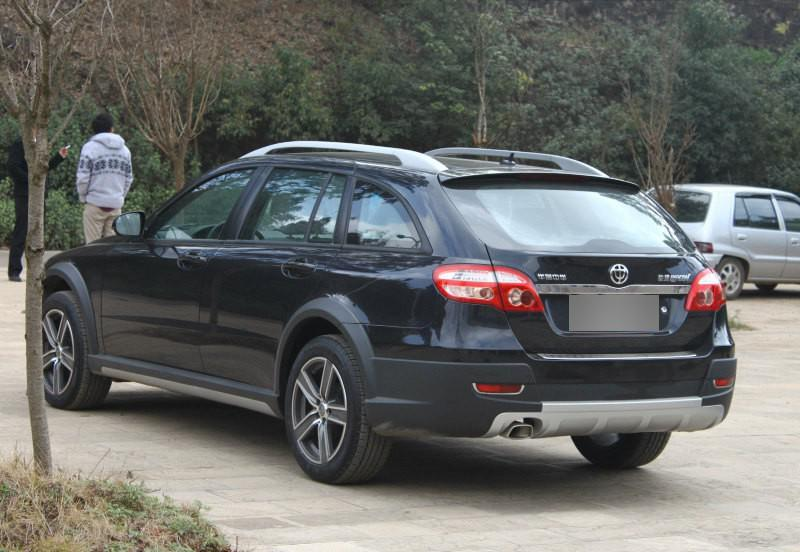Wagon: (41, 140, 737, 486)
